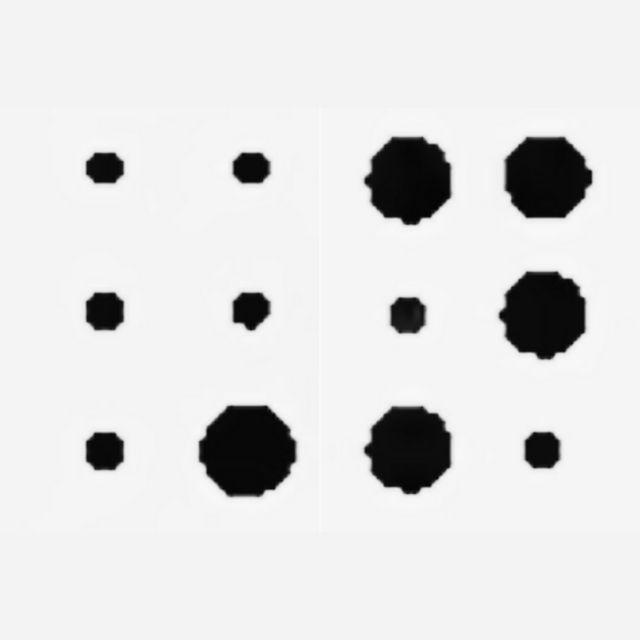N: (365, 135, 591, 496)
capital: (56, 135, 295, 496)
